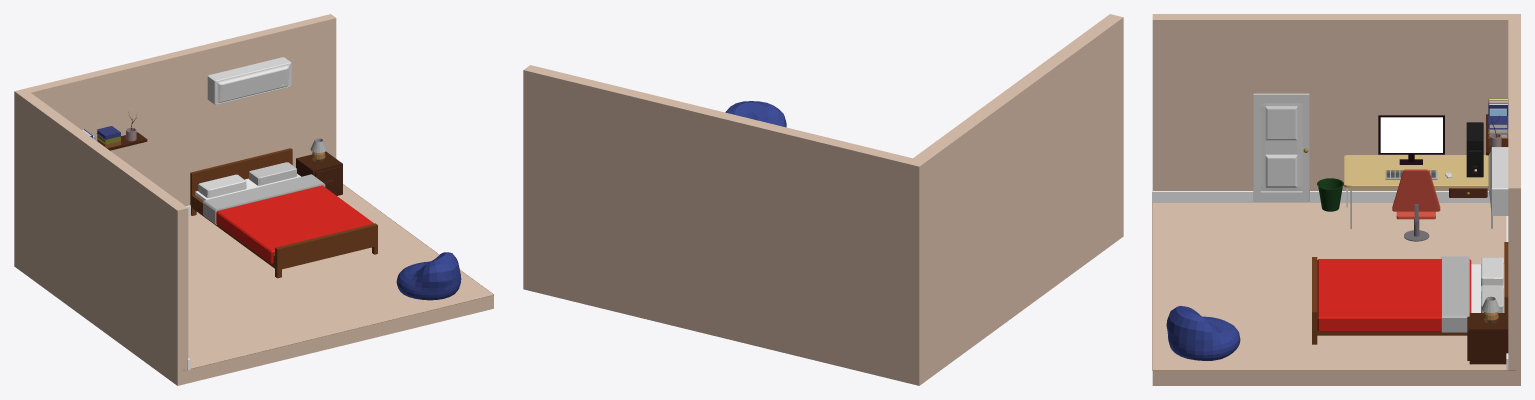
Rendered from bedroom.glb.
3 views of the same model, side by side, from view 1: azimuth 30°, elevation 25°; view 2: azimuth 150°, elevation 25°; view 3: azimuth 270°, elevation 25° (orthographic). The views are drawn at different scales.
Parts seen in each view (by area): view 1: Cube, Cube.005, Cube.003, Cube.002, Sphere.002, Cube.006, Cube.009, Cube.008, Cube.007; view 2: Cube, Sphere.002; view 3: Cube, Cube.005, Cube.001, Cube.010, Sphere.002, Plane.013, Cube.006, Cube.009, Cube.028, Cube.003, Cube.002, Cube.031 (+11 smaller).
Part boxes in pixels (<box>): Cube: <box>14,14,493,385</box>; Cube.005: <box>216,185,373,263</box>; Cube.003: <box>190,148,377,278</box>; Cube.002: <box>207,57,291,104</box>; Sphere.002: <box>396,252,461,300</box>; Cube.006: <box>203,174,325,224</box>; Cube.009: <box>296,151,342,195</box>; Cube.008: <box>198,174,246,197</box>; Cube.007: <box>249,162,297,185</box>; Cube: <box>523,14,1123,385</box>; Sphere.002: <box>725,101,786,127</box>; Cube: <box>1152,14,1520,385</box>; Cube.005: <box>1317,259,1471,331</box>; Cube.001: <box>1253,93,1309,202</box>; Cube.010: <box>1344,155,1488,188</box>; Sphere.002: <box>1166,306,1240,360</box>; Plane.013: <box>1380,117,1442,152</box>; Cube.006: <box>1441,256,1469,332</box>; Cube.009: <box>1467,313,1508,364</box>; Cube.028: <box>1392,169,1440,211</box>; Cube.003: <box>1312,242,1508,344</box>; Cube.002: <box>1488,147,1508,215</box>; Cube.031: <box>1152,190,1253,203</box>.
Size of the model in its own units: 4.59 by 2.43 by 4.1.
